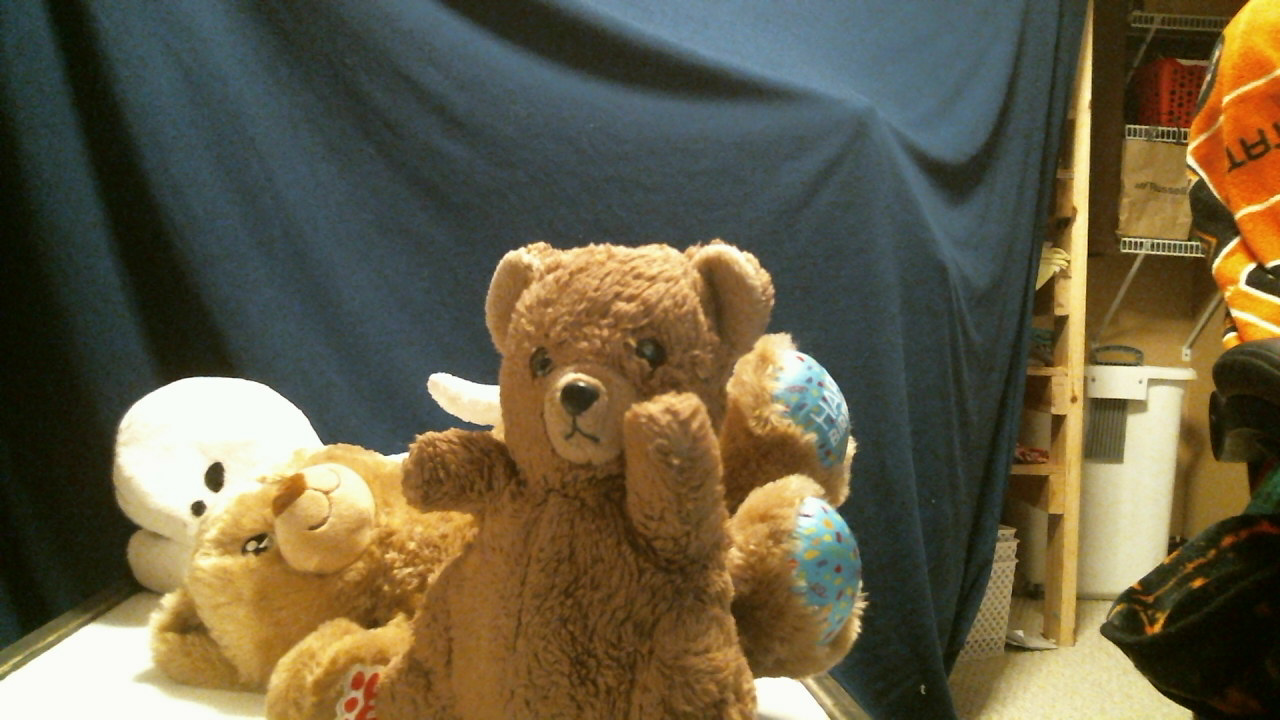Little_Mister_Bear: (530, 333, 684, 454)
